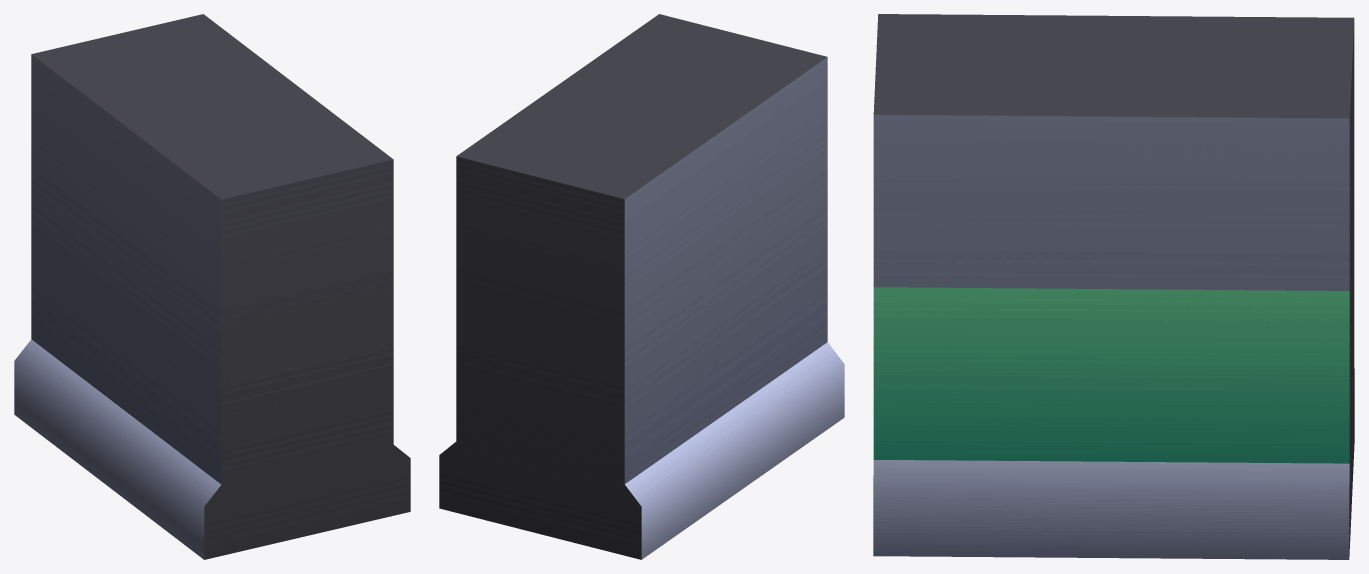
File: wall.046_lev2.glb
3 views of the same model, side by side, from view 1: azimuth 30°, elevation 25°; view 2: azimuth 150°, elevation 25°; view 3: azimuth 270°, elevation 25° (orthographic). The views are drawn at different scales.
Visible parts, largest first — view 1: wall.046_lev2; view 2: wall.046_lev2; view 3: wall.046_lev2.
Boxes of the visible parts, x1,y1,x2,y2 form: wall.046_lev2: [14, 14, 410, 559]; wall.046_lev2: [439, 14, 844, 559]; wall.046_lev2: [873, 14, 1354, 559].
Bounding box in the file's own units: 2.47 × 4 × 4.04.
1 material, 1 textured.
